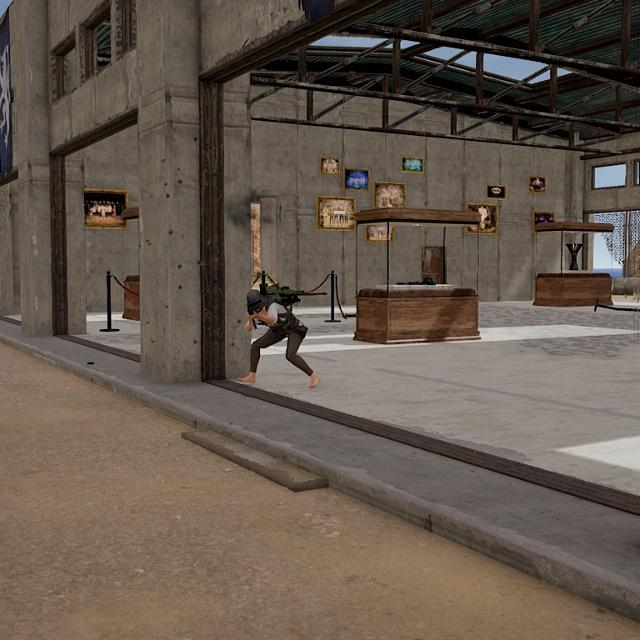head: (244, 289, 267, 315)
people: (238, 288, 321, 391)
